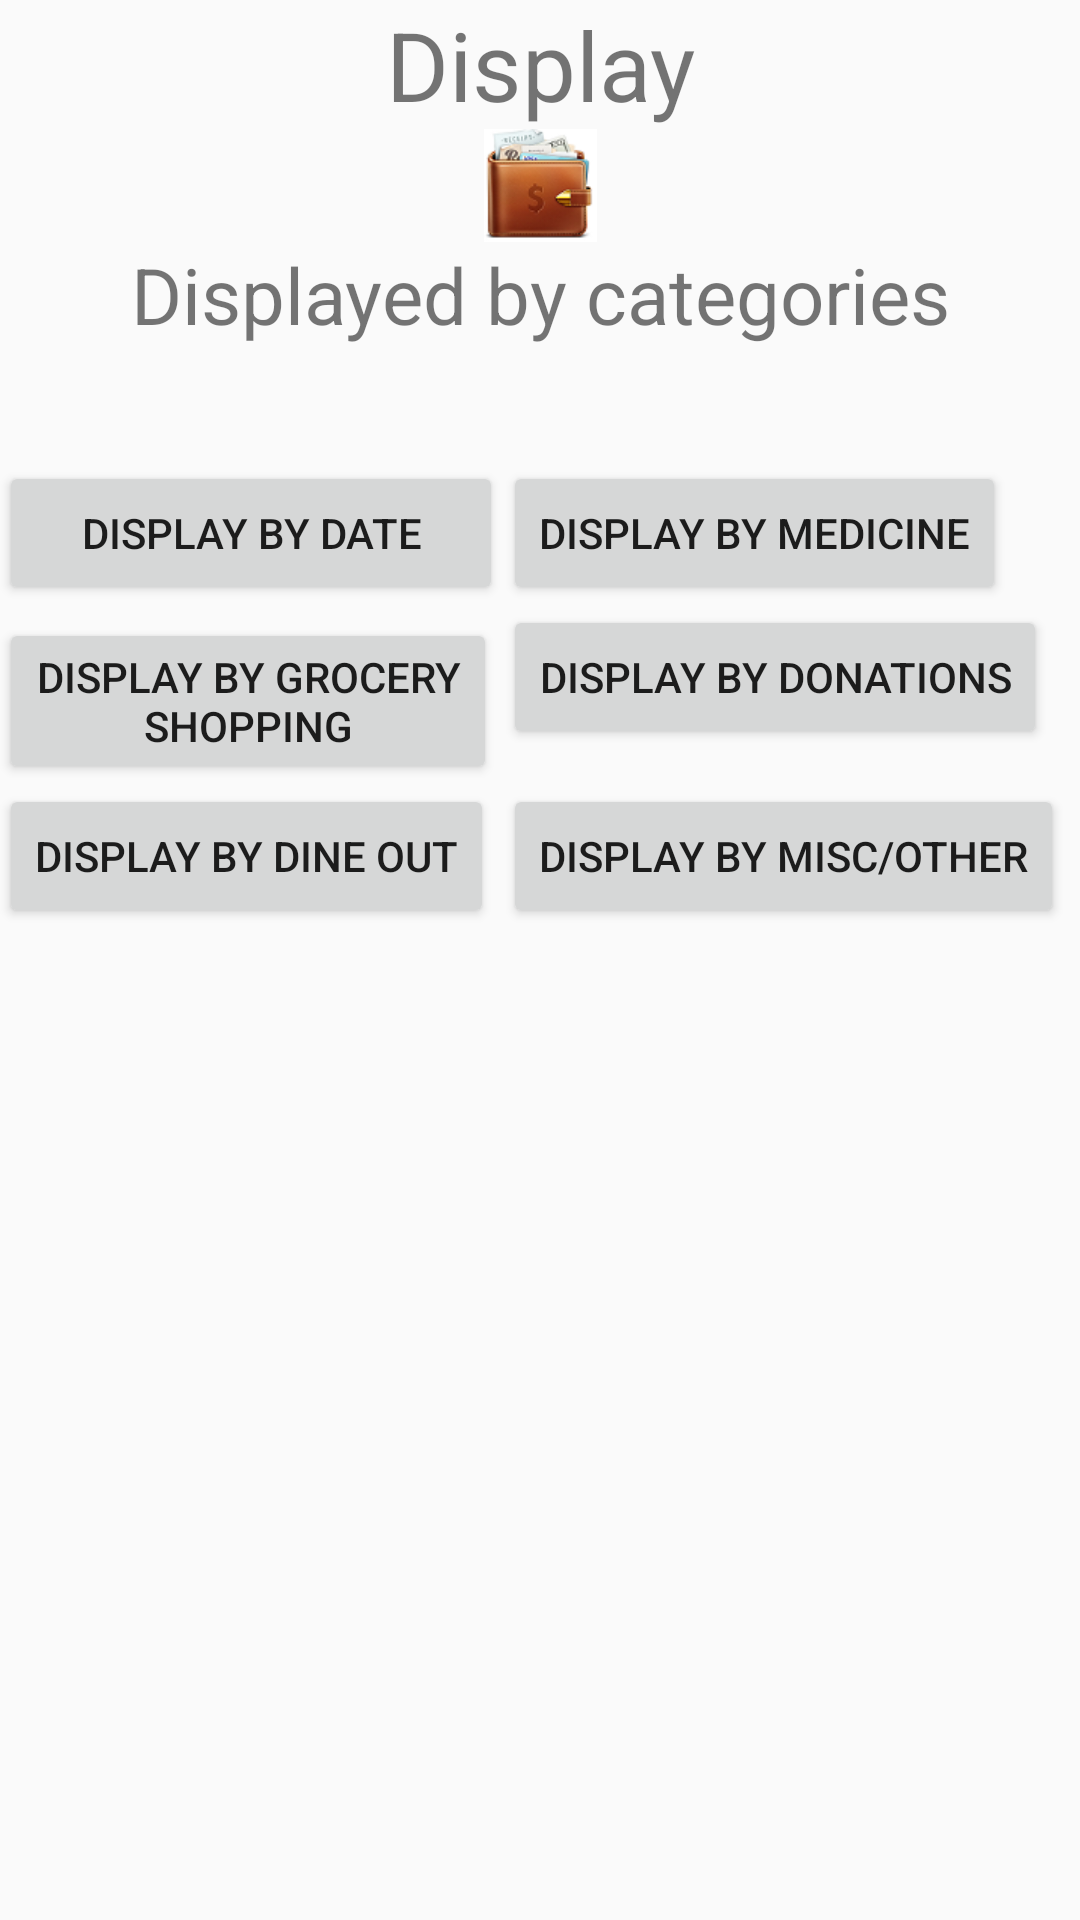

Locate icon controls on the screen. Image size 1080×1920, boxes as [x1, y1, x2, y2].
walleticon: [487, 129, 592, 238]
